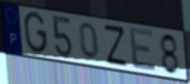0: (78, 22, 101, 61)
5: (50, 14, 74, 60)
8: (158, 31, 180, 77)
E: (128, 26, 158, 73)
G: (23, 11, 49, 56)
Z: (103, 23, 129, 68)
